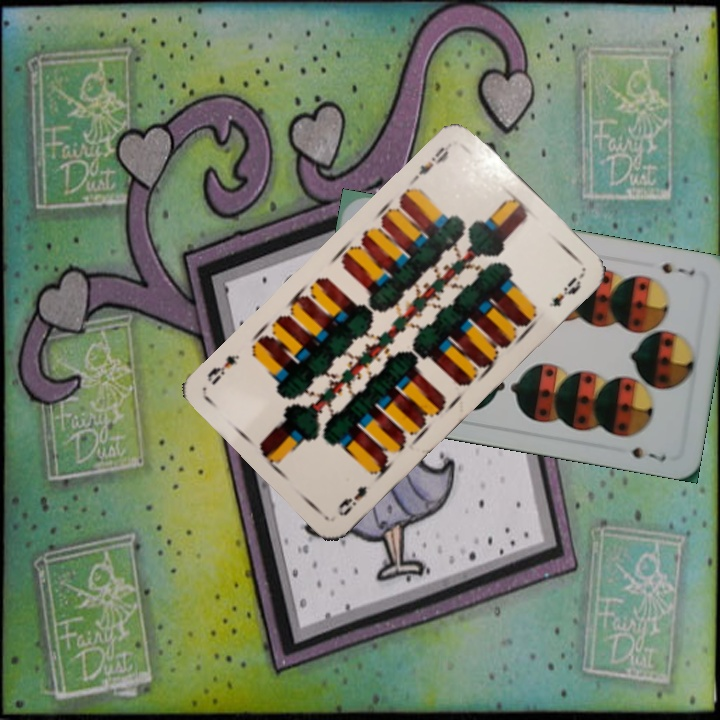E9: (408, 138, 455, 185), (333, 481, 370, 519)
S7: (658, 259, 698, 278)
